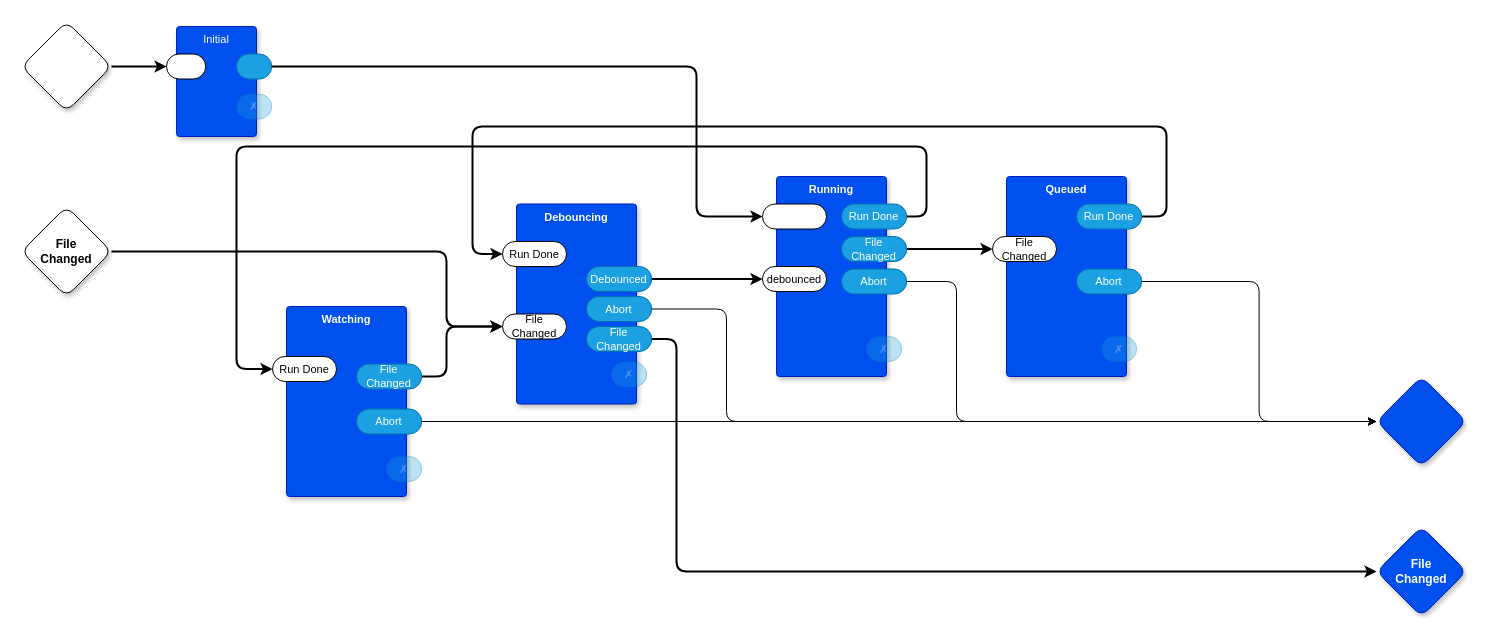
This 1490x641 diagram has some shape labels left out. The centre of each missing label's shape, as x and y in pixels:
Aborted: point 1422,423
begin: point 67,67
